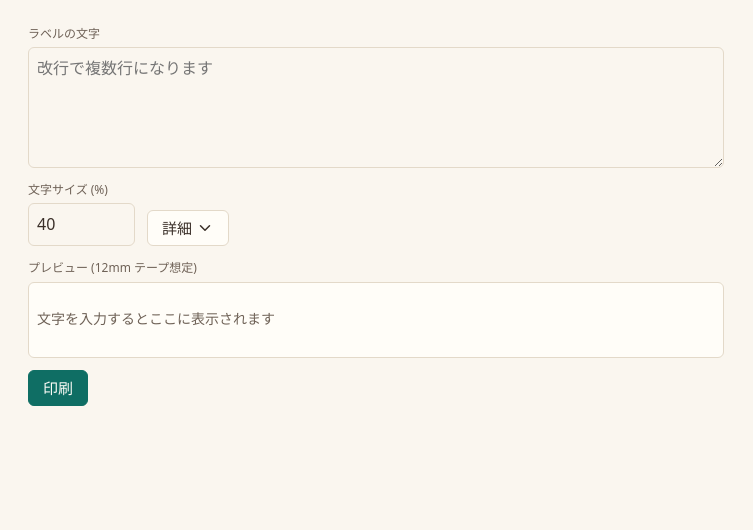
Test: Print › shows the printer's error message when printing fails
Expected: the button "詳細" is shown, [147,210,229,246]
Type "abc" into the text box labelled "ラベルの文字" at (376, 107), box [28,47,724,168]
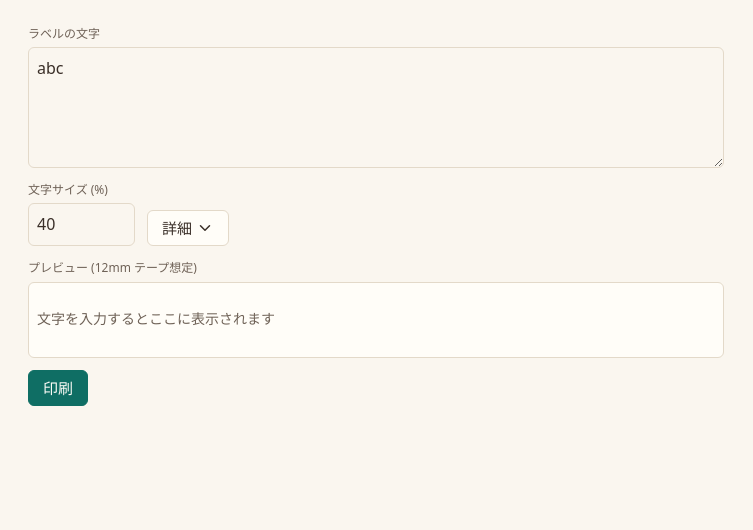
Click the button "印刷" at (58, 388), box [28,370,88,406]
Wait 150 ms
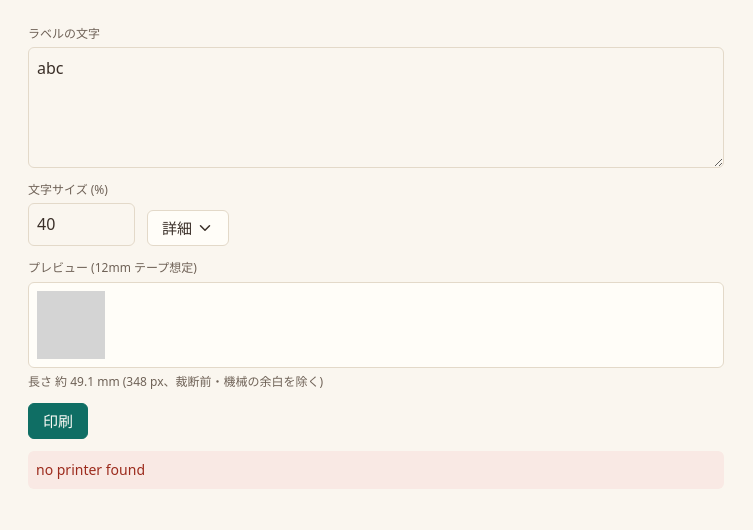
Expected: the text "no printer found" is shown, [28,451,724,489]
